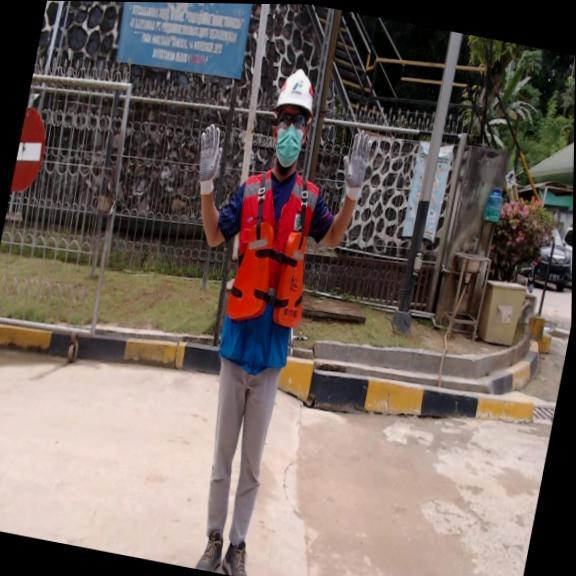safety_vest: (222, 218, 318, 335)
